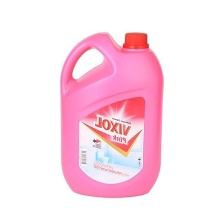cleaning_solution: (56, 28, 168, 202)
